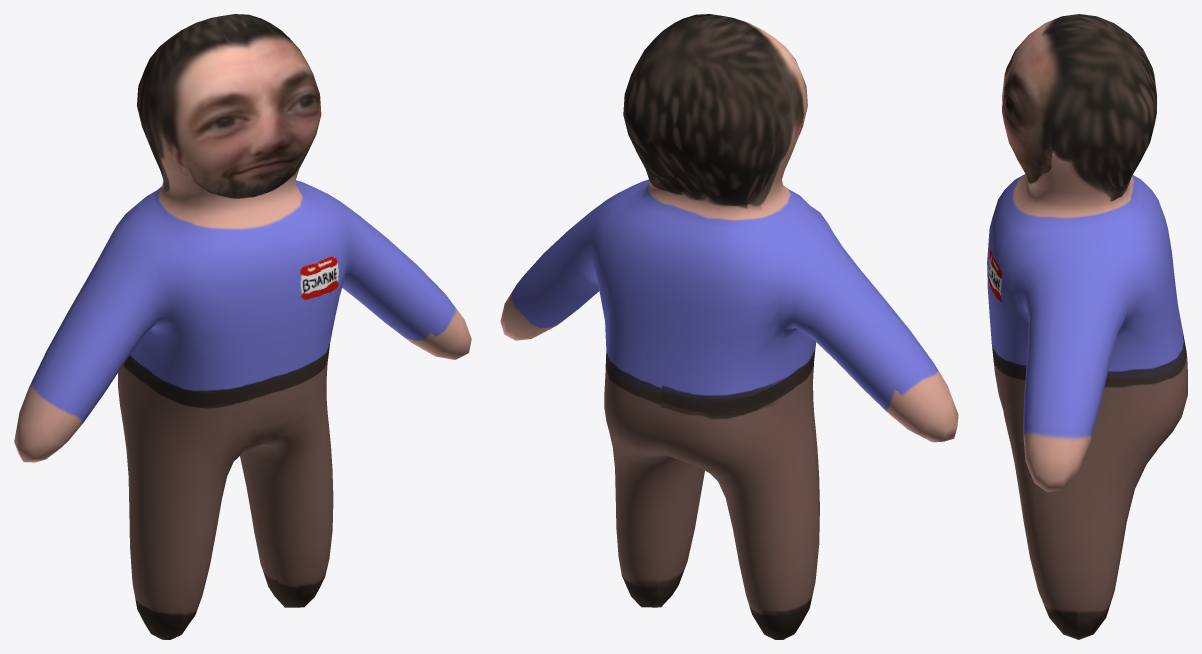
Rendered from bjarne.fbx.
3 views of the same model, side by side, from view 1: azimuth 30°, elevation 25°; view 2: azimuth 150°, elevation 25°; view 3: azimuth 270°, elevation 25° (orthographic). The views are drawn at different scales.
Parts seen in each view (by area): view 1: bjarne; view 2: bjarne; view 3: bjarne.
Part boxes in pixels (<box>): bjarne: <box>14,14,471,639</box>; bjarne: <box>500,14,958,639</box>; bjarne: <box>987,14,1187,639</box>.
Size of the model in its own units: 312 by 398 by 124.
